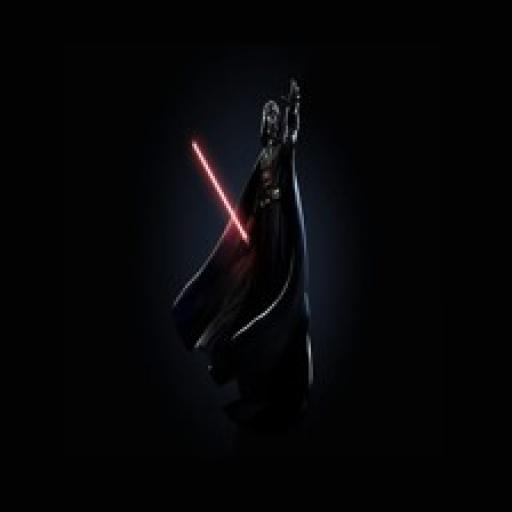lightsaber: (188, 136, 257, 250)
